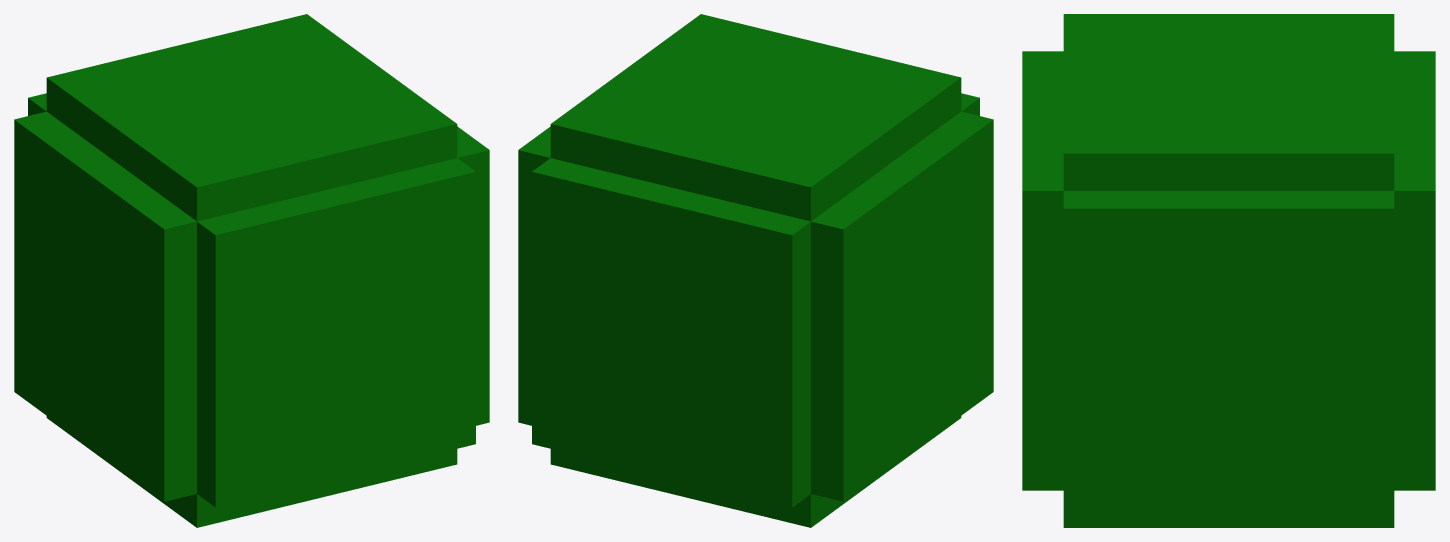
The model's file is bush_1.obj.
3 views of the same model, side by side, from view 1: azimuth 30°, elevation 25°; view 2: azimuth 150°, elevation 25°; view 3: azimuth 270°, elevation 25° (orthographic). The views are drawn at different scales.
Bounding box in the file's own units: 10 × 10 × 10.
Materials: 1 (1 with a texture image).
